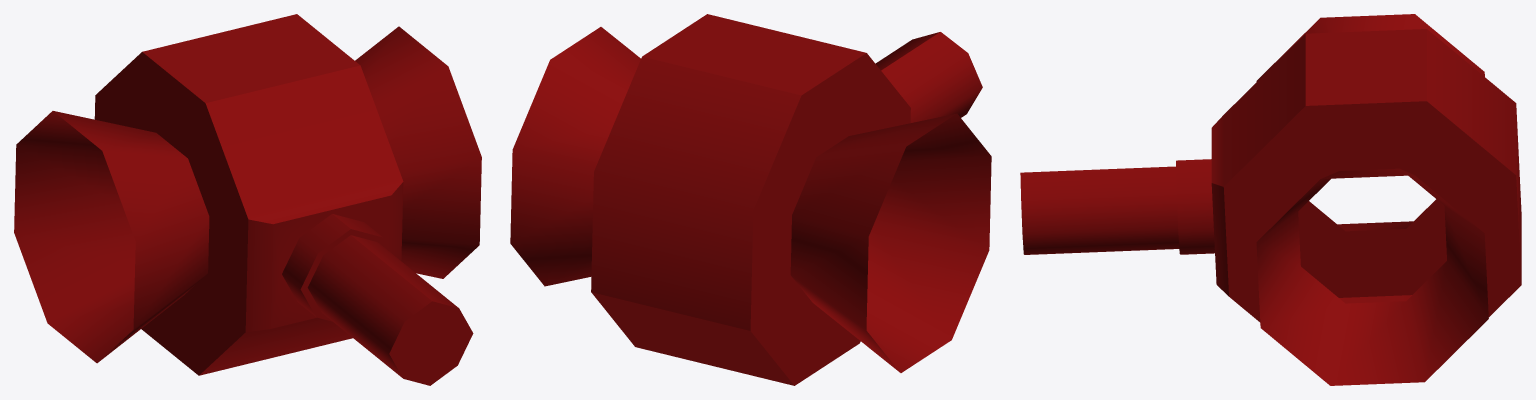
File: weapon gun 1.obj
3 views of the same model, side by side, from view 1: azimuth 30°, elevation 25°; view 2: azimuth 150°, elevation 25°; view 3: azimuth 270°, elevation 25° (orthographic). The views are drawn at different scales.
Visible parts, largest first — view 1: Cylinder003; view 2: Cylinder003; view 3: Cylinder003.
Part boxes in pixels (x1,y1,x2,y2): Cylinder003: (14, 14, 481, 385); Cylinder003: (510, 14, 991, 385); Cylinder003: (1020, 14, 1521, 385).
Size of the model in its own units: 55.99 by 43.66 by 73.47.
